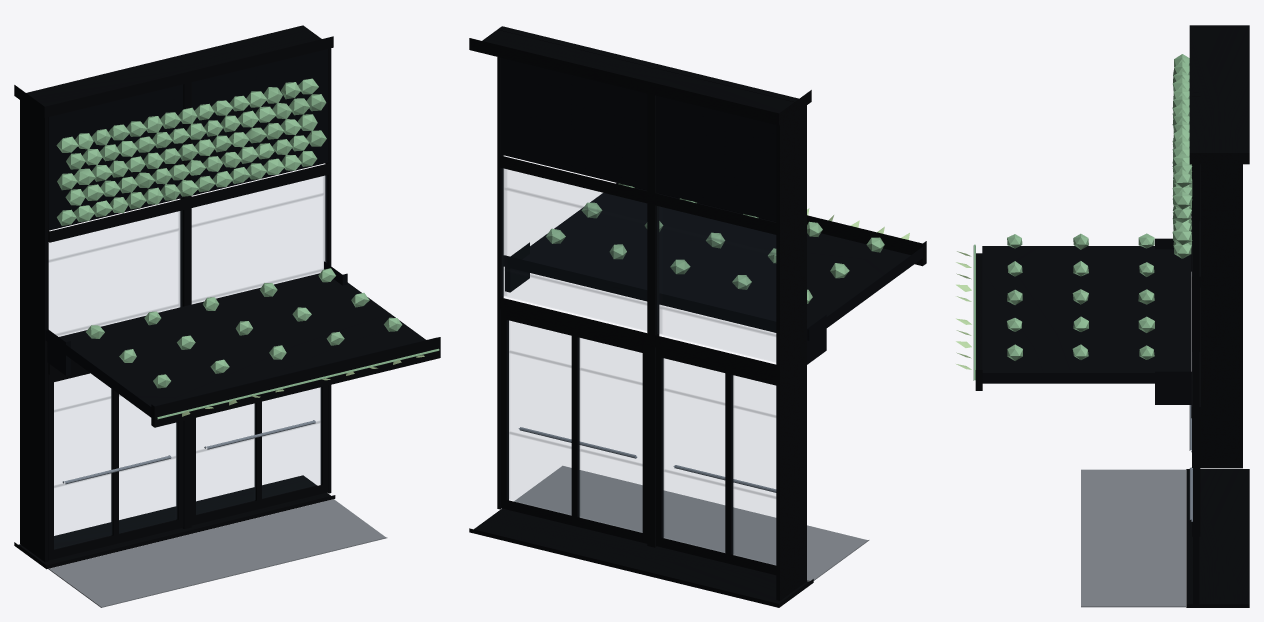
The picture shows the model from 3 angles, left to right: view 1: azimuth 30°, elevation 25°; view 2: azimuth 150°, elevation 25°; view 3: azimuth 270°, elevation 25°; orthographic projection. The views are drawn at different scales.
Visible parts, largest first — view 1: Frame, Canopy, Green_Wall, Threshold_Mat, Spandrel_Panel, Door_Stiles, Canopy_Fascia, Canopy_Moss, Glass_Mid_0, Glass_Mid_1, Glass_Door_0, Push_Bars (+2 smaller); view 2: Frame, Canopy, Spandrel_Panel, Door_Stiles, Threshold_Mat, Canopy_Moss, Glass_Door_1, Glass_Mid_1, Canopy_Fascia, Glass_Mid_0, Glass_Door_0, Push_Bars; view 3: Frame, Canopy, Threshold_Mat, Green_Wall, Canopy_Moss, Canopy_Fascia, Fascia_Vine_Leaves, Fascia_Vine.
Part boxes in pixels (x1,y1,x2,y2): Frame: [14, 25, 335, 569]; Canopy: [45, 261, 436, 417]; Green_Wall: [56, 78, 326, 225]; Threshold_Mat: [48, 499, 387, 607]; Spandrel_Panel: [48, 49, 328, 230]; Door_Stiles: [48, 367, 328, 560]; Canopy_Fascia: [151, 337, 440, 427]; Canopy_Moss: [86, 268, 402, 388]; Glass_Mid_0: [49, 211, 182, 335]; Glass_Mid_1: [192, 175, 326, 303]; Glass_Door_0: [54, 389, 177, 534]; Push_Bars: [62, 420, 315, 484]; Frame: [469, 26, 813, 607]; Canopy: [503, 183, 922, 364]; Spandrel_Panel: [500, 30, 794, 221]; Door_Stiles: [500, 309, 776, 575]; Threshold_Mat: [514, 465, 869, 581]; Canopy_Moss: [546, 183, 884, 303]; Glass_Door_1: [507, 320, 642, 516]; Glass_Mid_1: [502, 168, 646, 305]; Canopy_Fascia: [616, 183, 926, 266]; Glass_Mid_0: [657, 206, 775, 337]; Glass_Door_0: [662, 358, 775, 553]; Push_Bars: [518, 427, 776, 492]; Frame: [1186, 25, 1249, 607]; Canopy: [982, 238, 1191, 404]; Threshold_Mat: [1081, 469, 1185, 607]; Green_Wall: [1172, 54, 1192, 258]; Canopy_Moss: [1007, 233, 1154, 360]; Canopy_Fascia: [975, 253, 982, 390]; Fascia_Vine_Leaves: [956, 251, 971, 369]; Fascia_Vine: [973, 244, 975, 380].
Size of the model in its own units: 4 by 6.1 by 3.58.
7 materials, 4 textured.
